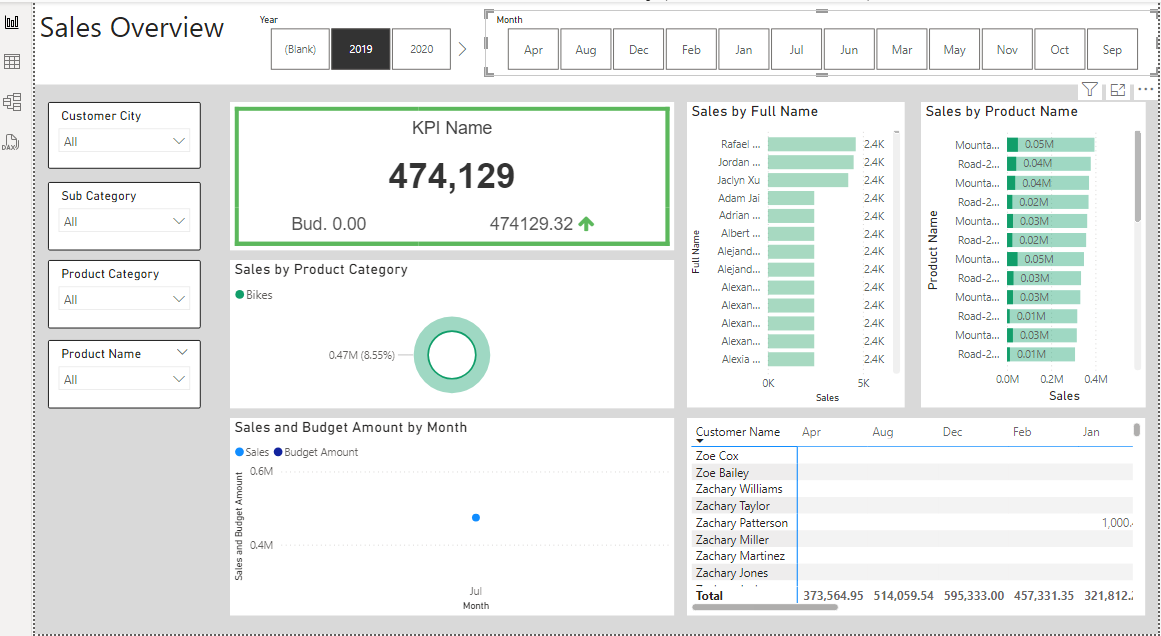

The page's visual inventory and layout, read from the dashboard file:
{"tool":"powerbi","page":{"name":"Page 1","canvas":[1280,720],"ordinal":0},"visuals":[{"type":"textbox","box":[0,0,1280,93.8],"z":0},{"type":"slicer","fields":{"Values":["DIM_Customers.Customer City"]},"box":[15,113.8,173.7,76.4],"z":1000},{"type":"slicer","fields":{"Values":["DIM_Products.Sub Category"]},"box":[15,205.1,173.7,77.8],"z":2000},{"type":"slicer","fields":{"Values":["DIM_Products.Product Name"]},"box":[15,384.7,173.7,77.8],"z":3000},{"type":"slicer","fields":{"Values":["DIM_Products.Product Category"]},"box":[15,293.4,173.7,77.8],"z":4000},{"type":"slicer","fields":{"Values":["DIM_Calendar.Year"]},"box":[242.2,9.3,255.3,74.5],"z":5000},{"type":"slicer","fields":{"Values":["DIM_Calendar.MonthShort"]},"box":[512.4,9.3,767.6,74.5],"z":6000},{"type":"BBED0A4D4D8D44CE93CF2DAFADEE466C","fields":{"actual":["FACT_InternetSales.Sales"],"target1":["FACT_Budget.Budget Amount"],"target2":["Key Measures.Sales - Budget"]},"box":[222.7,114.5,505.8,168.6],"z":7000},{"type":"donutChart","fields":{"Category":["DIM_Products.Product Category"],"Y":["Key Measures.Sales"]},"box":[222.7,293.5,505.8,168.6],"z":8000},{"type":"lineChart","fields":{"Y":["Key Measures.Sales","Key Measures.Budget Amount"],"Category":["DIM_Calendar.MonthShort"]},"box":[222.5,474.4,506.4,225.1],"z":9000},{"type":"barChart","fields":{"Category":["DIM_Customers.Full Name"],"Y":["Key Measures.Sales"]},"box":[743,114.5,247.7,347.6],"z":10000},{"type":"barChart","fields":{"Category":["DIM_Products.Product Name"],"Y":["Key Measures.Sales"]},"box":[1009.4,114.5,256,347.6],"z":11000},{"type":"pivotTable","fields":{"Rows":["DIM_Customers.Full Name"],"Values":["Key Measures.Sales"],"Columns":["DIM_Calendar.MonthShort"]},"box":[742.9,474.4,521.7,225.1],"z":12000}]}

Visuals, with their boxes on the page's 1280x720 design canvas (x1, y1, x2, y2). These are canvas units, not pixel positions in the 1161x636 screenshot, which may show the page scaled, cropped or inside an application window:
textbox: pyautogui.locateOnScreen(0, 0, 1280, 94)
slicer - DIM_Customers.Customer City: pyautogui.locateOnScreen(15, 114, 189, 190)
slicer - DIM_Products.Sub Category: pyautogui.locateOnScreen(15, 205, 189, 283)
slicer - DIM_Products.Product Name: pyautogui.locateOnScreen(15, 385, 189, 462)
slicer - DIM_Products.Product Category: pyautogui.locateOnScreen(15, 293, 189, 371)
slicer - DIM_Calendar.Year: pyautogui.locateOnScreen(242, 9, 498, 84)
slicer - DIM_Calendar.MonthShort: pyautogui.locateOnScreen(512, 9, 1280, 84)
BBED0A4D4D8D44CE93CF2DAFADEE466C - FACT_InternetSales.Sales x FACT_Budget.Budget Amount: pyautogui.locateOnScreen(223, 114, 728, 283)
donutChart - DIM_Products.Product Category x Key Measures.Sales: pyautogui.locateOnScreen(223, 294, 728, 462)
lineChart - Key Measures.Sales x Key Measures.Budget Amount: pyautogui.locateOnScreen(222, 474, 729, 700)
barChart - DIM_Customers.Full Name x Key Measures.Sales: pyautogui.locateOnScreen(743, 114, 991, 462)
barChart - DIM_Products.Product Name x Key Measures.Sales: pyautogui.locateOnScreen(1009, 114, 1265, 462)
pivotTable - DIM_Customers.Full Name x Key Measures.Sales: pyautogui.locateOnScreen(743, 474, 1265, 700)
